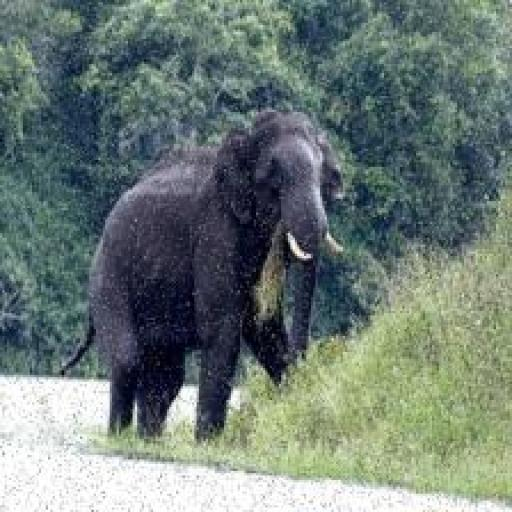Elephant: (62, 110, 345, 454)
